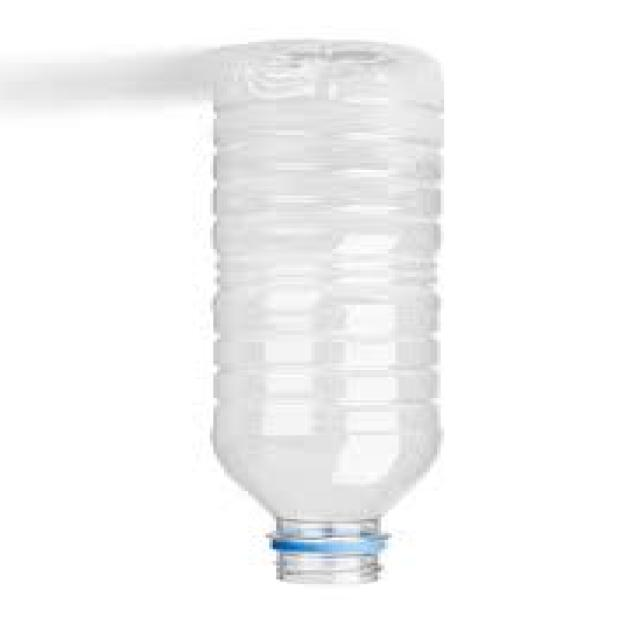plastic cup: (214, 43, 443, 584)
